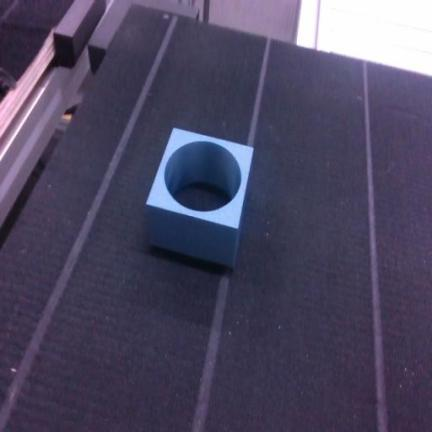hole: (146, 129, 253, 266)
